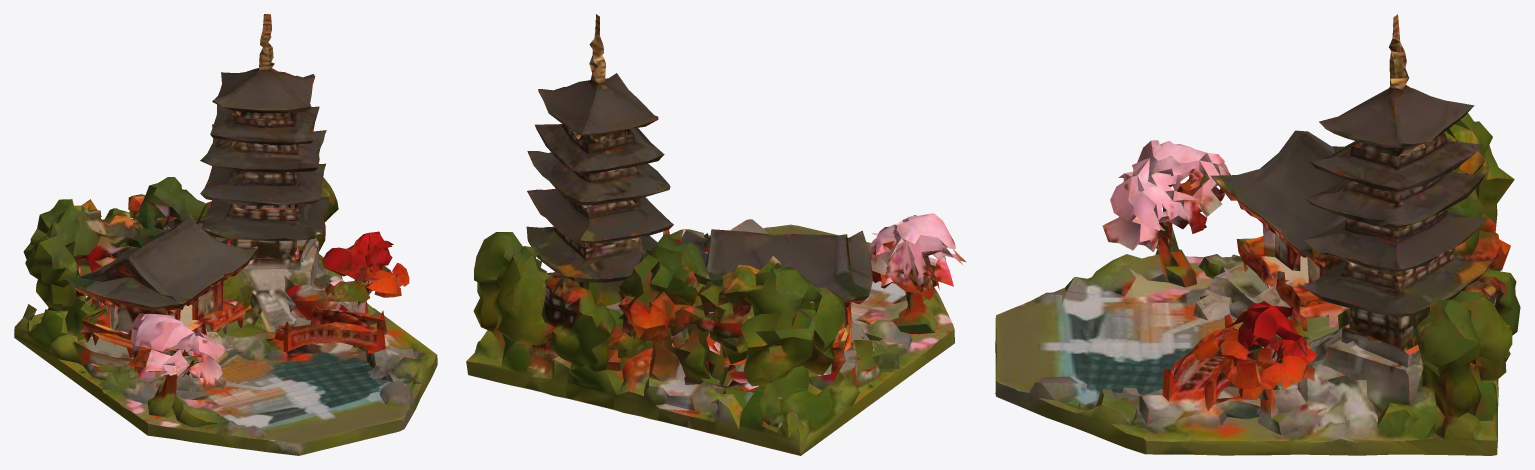
Rendered from daigoji.glb.
3 renders of one model, left to right at view 1: azimuth 30°, elevation 25°; view 2: azimuth 150°, elevation 25°; view 3: azimuth 270°, elevation 25°, orthographic. The views are drawn at different scales.
Visible parts, largest first — view 1: logan-textured.obj; view 2: logan-textured.obj; view 3: logan-textured.obj.
Part boxes in pixels (<box>): logan-textured.obj: <box>14,14,437,455</box>; logan-textured.obj: <box>466,14,966,455</box>; logan-textured.obj: <box>995,14,1520,455</box>.
Bounding box in the file's own units: 0.8923 × 0.8249 × 1.
1 material, 1 textured.
